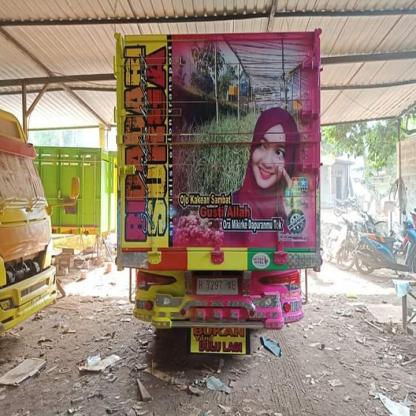truck: (117, 31, 322, 363)
